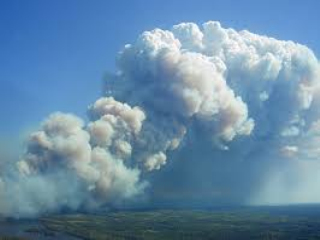smoke: (16, 26, 300, 208)
